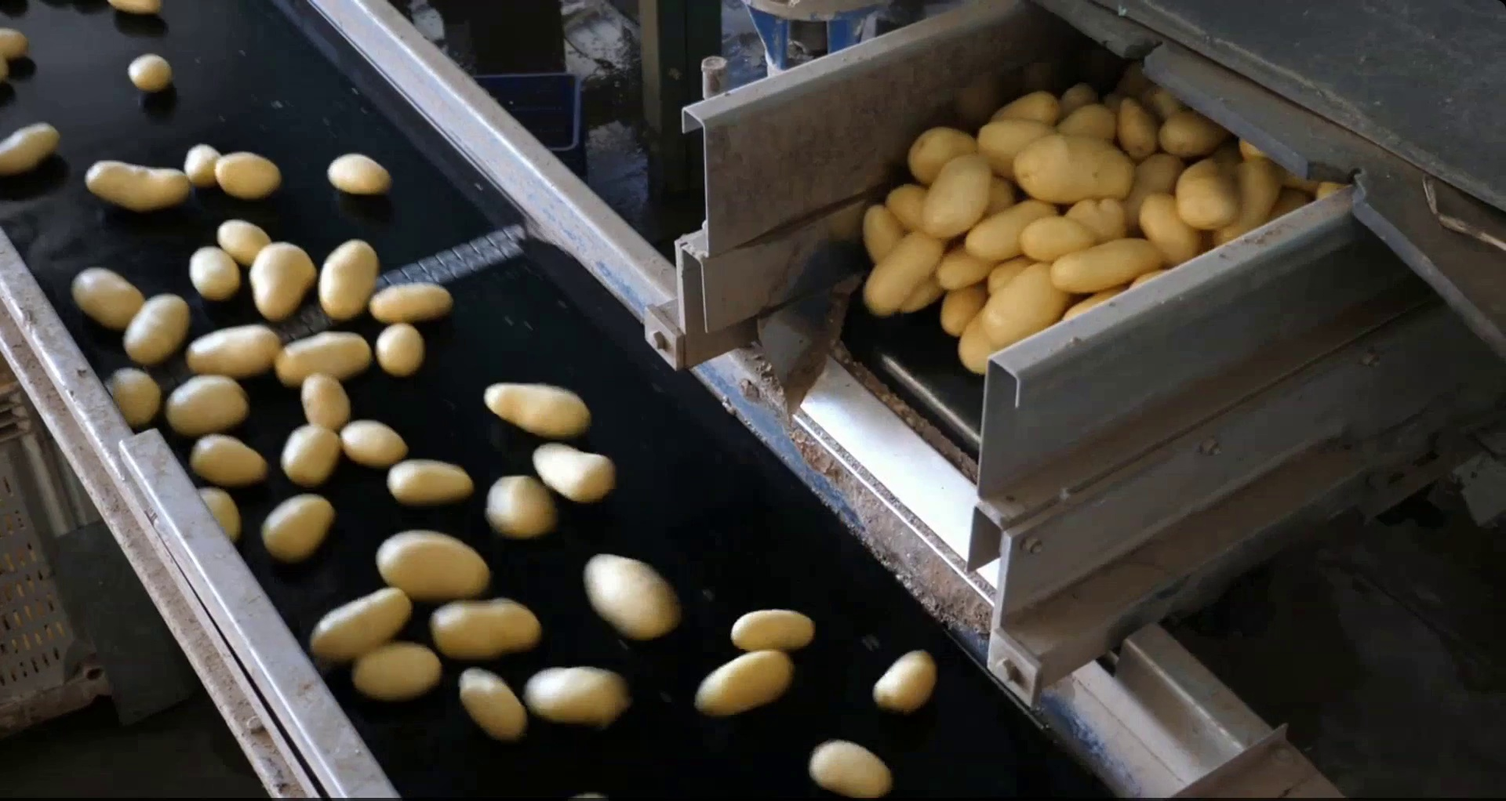potato: (1010, 129, 1141, 206), (579, 549, 685, 642), (371, 525, 496, 602), (304, 581, 416, 665), (979, 259, 1079, 346), (425, 592, 546, 662), (859, 227, 947, 321), (1046, 234, 1173, 297), (689, 647, 796, 719), (520, 666, 638, 730), (958, 194, 1064, 263), (1213, 150, 1283, 253), (482, 378, 595, 440), (921, 150, 995, 244), (244, 239, 322, 327), (972, 114, 1060, 189), (346, 638, 447, 703), (80, 158, 195, 215), (453, 664, 533, 745), (118, 290, 195, 374), (183, 317, 285, 380), (529, 439, 620, 509), (256, 491, 340, 566), (315, 232, 382, 325), (803, 735, 899, 799), (1134, 187, 1206, 272), (64, 260, 148, 332), (271, 328, 375, 385), (479, 470, 561, 542), (162, 372, 254, 436), (1121, 147, 1188, 229), (384, 451, 478, 509), (868, 645, 941, 719), (726, 598, 818, 656), (1177, 156, 1242, 235), (905, 122, 981, 187), (185, 431, 272, 487), (276, 420, 343, 491), (98, 363, 165, 432), (1013, 214, 1103, 265), (365, 279, 460, 327), (1154, 107, 1234, 161), (211, 147, 287, 203), (951, 303, 1004, 381), (335, 417, 411, 470), (986, 83, 1064, 133), (2, 117, 64, 179), (931, 282, 995, 342), (297, 367, 355, 433), (1113, 86, 1160, 165), (856, 201, 909, 270), (324, 147, 396, 197), (185, 242, 243, 303), (1059, 197, 1133, 244), (372, 321, 429, 381), (193, 484, 246, 548), (214, 215, 275, 268), (1060, 285, 1136, 327), (934, 242, 993, 293), (882, 178, 933, 237), (1059, 103, 1122, 147), (984, 252, 1048, 295), (1259, 183, 1314, 230), (895, 271, 945, 320), (125, 49, 175, 96), (1053, 72, 1103, 114), (182, 139, 223, 190), (1130, 263, 1181, 295), (1143, 81, 1182, 121), (984, 174, 1017, 220), (1235, 136, 1273, 167), (105, 2, 166, 20), (2, 22, 30, 60), (3, 53, 12, 92)
